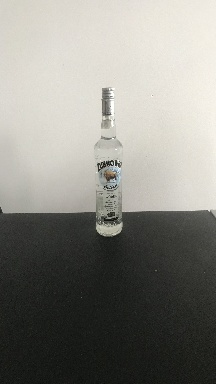butelka: (92, 84, 124, 239)
